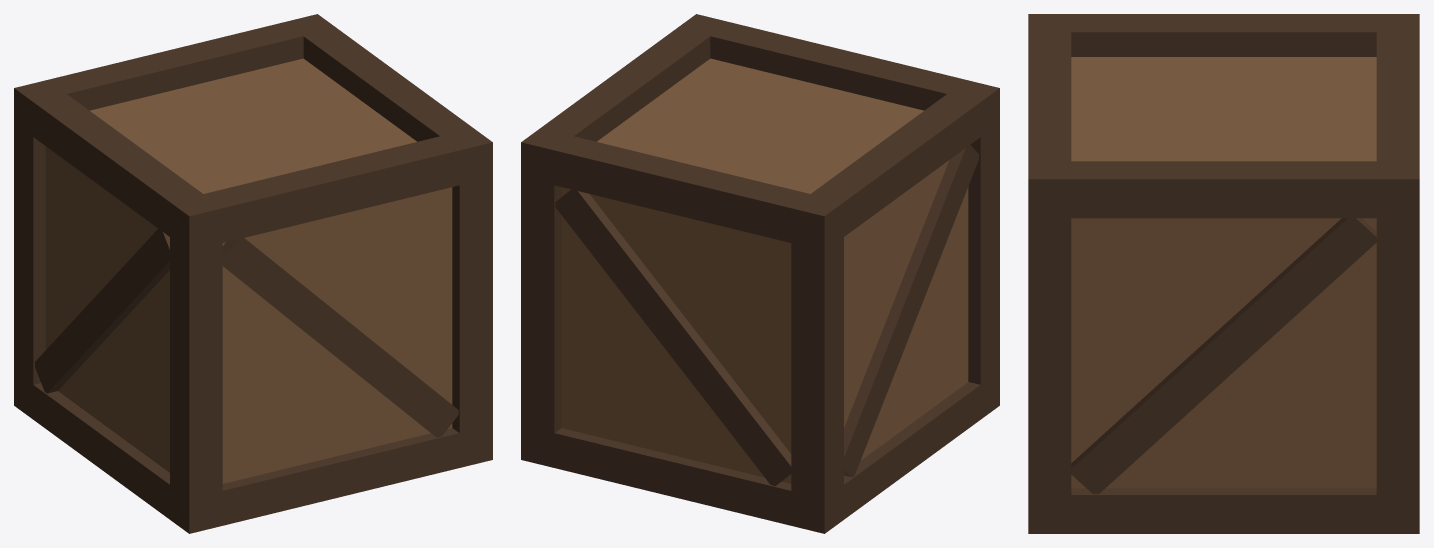
The model's file is Crate.fbx.
3 renders of one model, left to right at view 1: azimuth 30°, elevation 25°; view 2: azimuth 150°, elevation 25°; view 3: azimuth 270°, elevation 25°, orthographic. The views are drawn at different scales.
Parts seen in each view (by area): view 1: Frame, Body; view 2: Frame, Body; view 3: Frame, Body.
Boxes of the visible parts, x1,y1,x2,y2 form: Frame: [14, 14, 492, 533]; Body: [45, 58, 452, 483]; Frame: [521, 14, 999, 533]; Body: [561, 58, 968, 483]; Frame: [1028, 14, 1419, 533]; Body: [1071, 57, 1376, 488].
Size of the model in its own units: 2 by 2 by 2.
